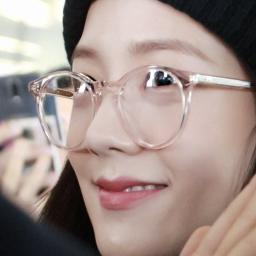face: (76, 4, 250, 256)
